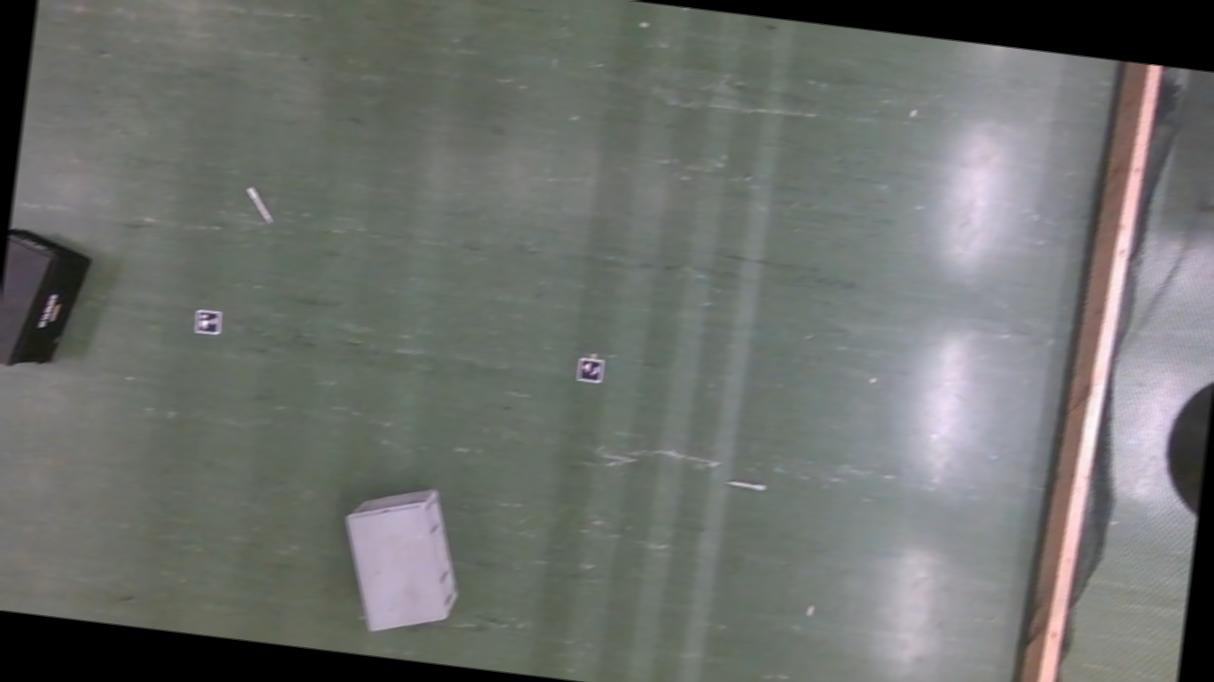probes: (241, 187, 276, 224), (725, 480, 765, 490)
rako: (332, 475, 472, 640), (0, 227, 94, 374)
